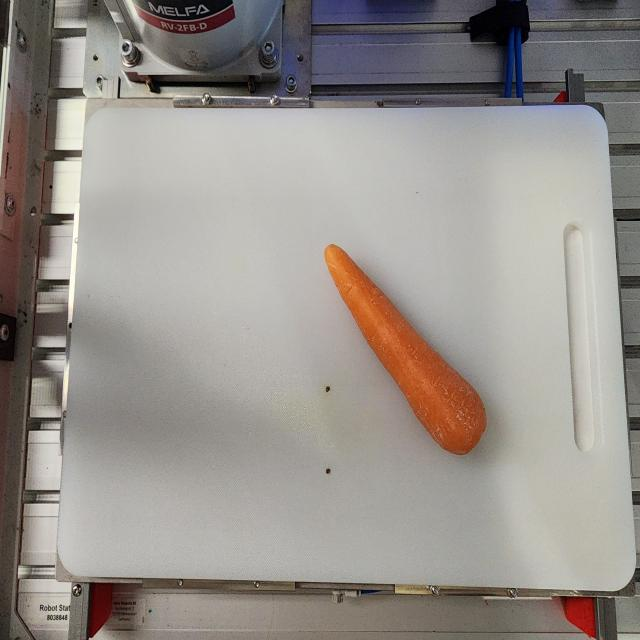carrot: (324, 242, 487, 456)
